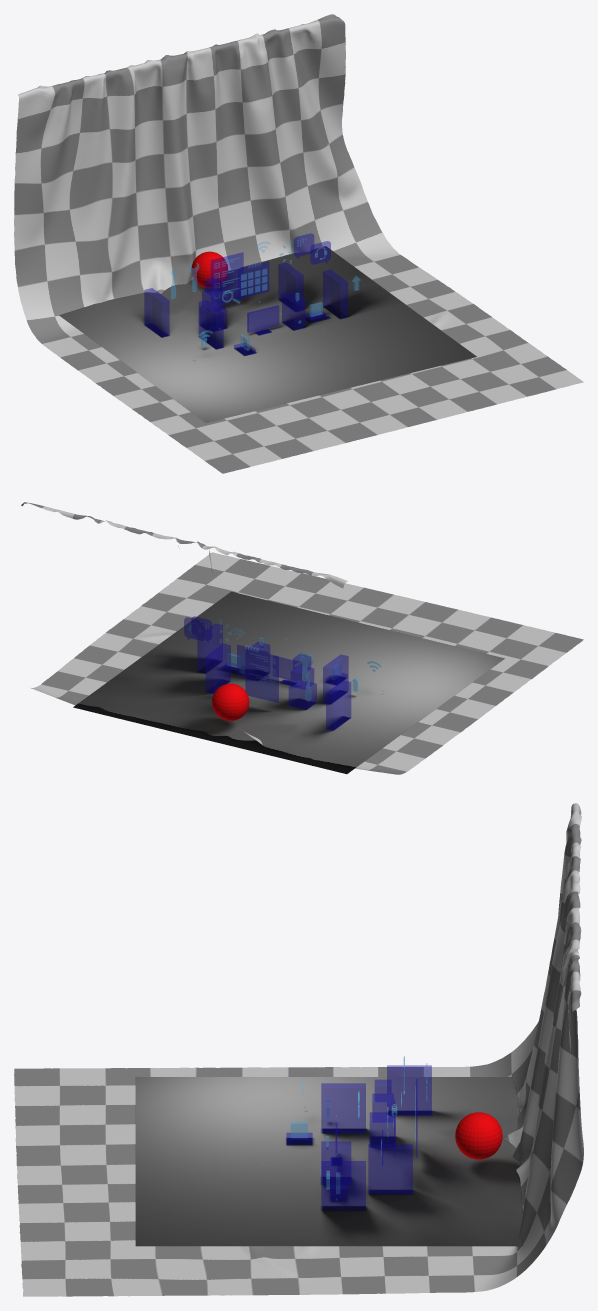
Rendered from material_saperated_2.glb.
3 renders of one model, top to bottom at view 1: azimuth 30°, elevation 25°; view 2: azimuth 150°, elevation 25°; view 3: azimuth 270°, elevation 25°, orthographic. The views are drawn at different scales.
Parts seen in each view (by area): view 1: Cloth Backdrop.002, Plane, Cube.093, Sphere, Cube.032, Cube.098, Cube.031, Cube.033, Cube.092, box.001, Cube.077, Cube.097; view 2: Plane, Cloth Backdrop.002, Cube.093, Sphere, Cube.032, Cube.033, Cube.031, Cube.098, Cube.092, Cube.097, Cube.077, Cube.096 (+2 smaller); view 3: Cloth Backdrop.002, Plane, Cube.098, Cube.031, Cube.033, Cube.032, Sphere, box.001, Cube.097.
Part boxes in pixels (x1,y1,x2,y2): Cloth Backdrop.002: [14, 14, 583, 473]; Plane: [59, 246, 476, 422]; Cube.093: [211, 252, 243, 303]; Sphere: [191, 251, 228, 288]; Cube.032: [144, 288, 169, 337]; Cube.098: [323, 270, 347, 318]; Cube.031: [278, 263, 303, 311]; Cube.033: [199, 300, 223, 349]; Cube.092: [238, 261, 268, 298]; box.001: [282, 292, 305, 330]; Cube.077: [247, 305, 278, 332]; Cube.097: [199, 303, 226, 331]; Plane: [73, 591, 504, 774]; Cloth Backdrop.002: [21, 502, 583, 774]; Cube.093: [245, 648, 278, 702]; Sphere: [212, 683, 249, 720]; Cube.032: [326, 680, 350, 730]; Cube.033: [323, 654, 348, 702]; Cube.031: [206, 644, 230, 693]; Cube.098: [197, 624, 222, 673]; Cube.092: [237, 645, 268, 681]; Cube.097: [289, 680, 316, 709]; Cube.077: [273, 656, 301, 681]; Cube.096: [291, 665, 313, 689]; Cloth Backdrop.002: [14, 803, 583, 1296]; Plane: [135, 1077, 522, 1246]; Cube.098: [321, 1161, 365, 1210]; Cube.031: [368, 1144, 412, 1193]; Cube.033: [321, 1083, 365, 1132]; Cube.032: [387, 1065, 431, 1114]; Sphere: [455, 1112, 502, 1159]; box.001: [321, 1141, 350, 1183]; Cube.097: [370, 1112, 395, 1146].
Bounding box in the file's own units: 36.24 × 20.52 × 37.98.
5 materials, 2 textured.
